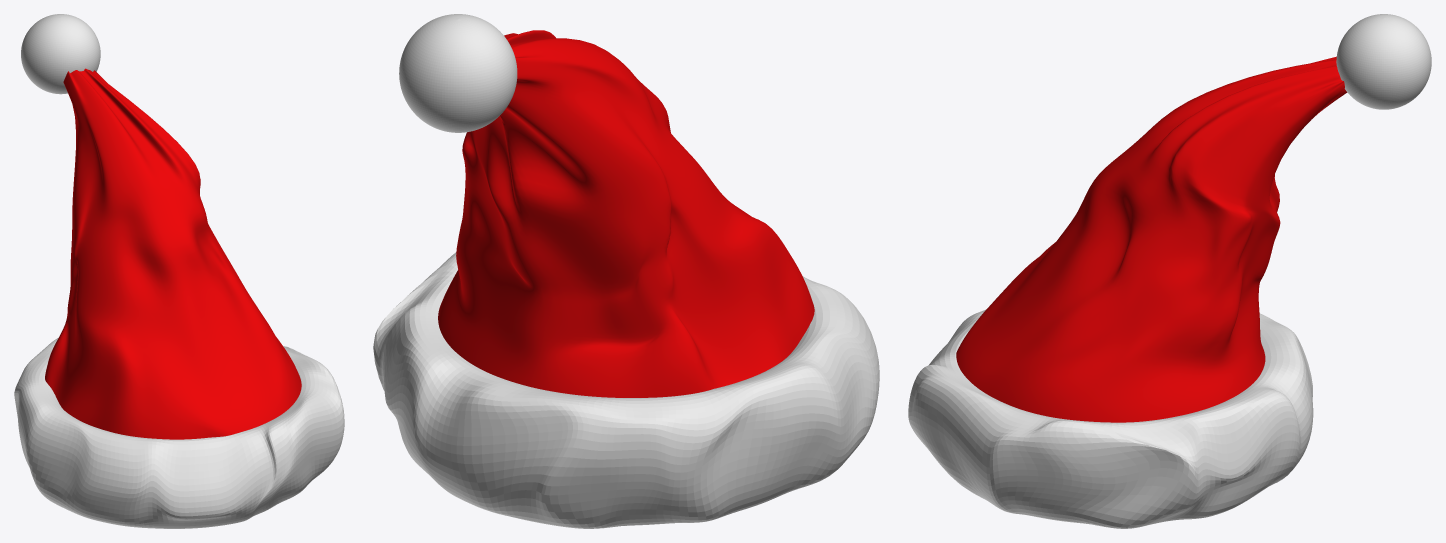
Rendered from top12.fbx.
The picture shows the model from 3 angles, left to right: view 1: azimuth 30°, elevation 25°; view 2: azimuth 150°, elevation 25°; view 3: azimuth 270°, elevation 25°; orthographic projection. The views are drawn at different scales.
Visible parts, largest first — view 1: Sphere; view 2: Sphere; view 3: Sphere.
Part boxes in pixels (x1,y1,x2,y2): Sphere: (14, 14, 344, 528); Sphere: (373, 14, 879, 528); Sphere: (908, 14, 1431, 528).
Size of the model in its own units: 23.9 by 29.75 by 32.06.
